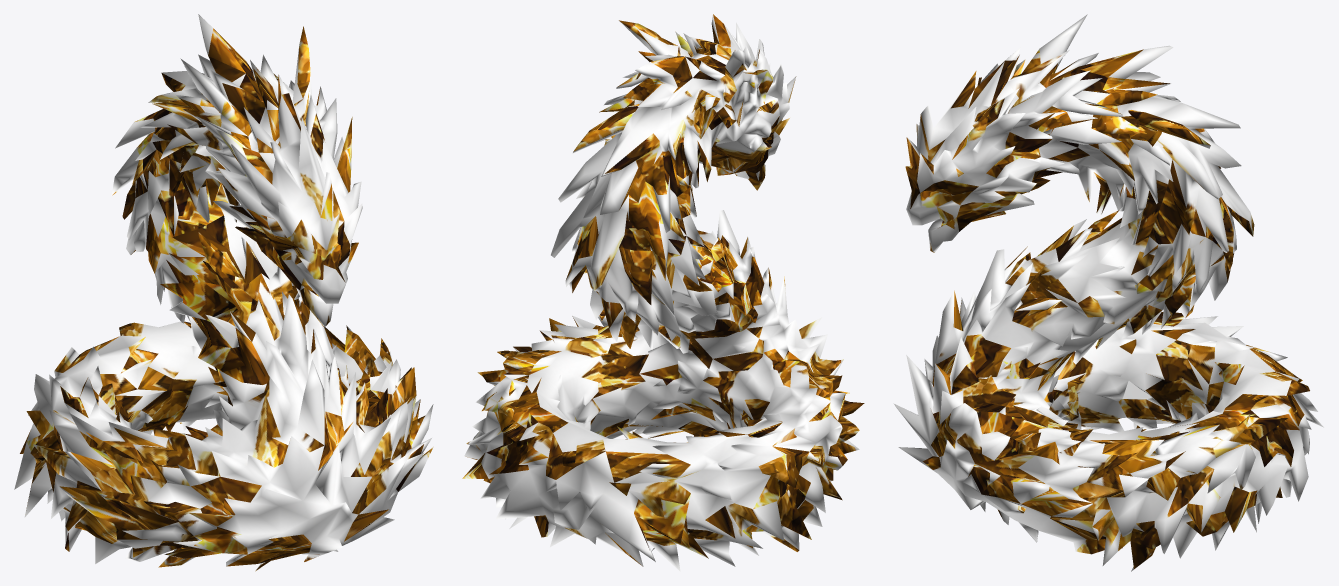
File: black_ice_leviathan_gold_5k.fbx
3 renders of one model, left to right at view 1: azimuth 30°, elevation 25°; view 2: azimuth 150°, elevation 25°; view 3: azimuth 270°, elevation 25°, orthographic. The views are drawn at different scales.
Parts seen in each view (by area): view 1: black_ice_leviathan_gold_decimated; view 2: black_ice_leviathan_gold_decimated; view 3: black_ice_leviathan_gold_decimated.
Boxes of the visible parts, bbox=[...] form: black_ice_leviathan_gold_decimated: bbox=[14, 14, 433, 571]; black_ice_leviathan_gold_decimated: bbox=[462, 14, 864, 571]; black_ice_leviathan_gold_decimated: bbox=[893, 14, 1323, 571].
Size of the model in its own units: 1.47 by 1.91 by 1.61.
